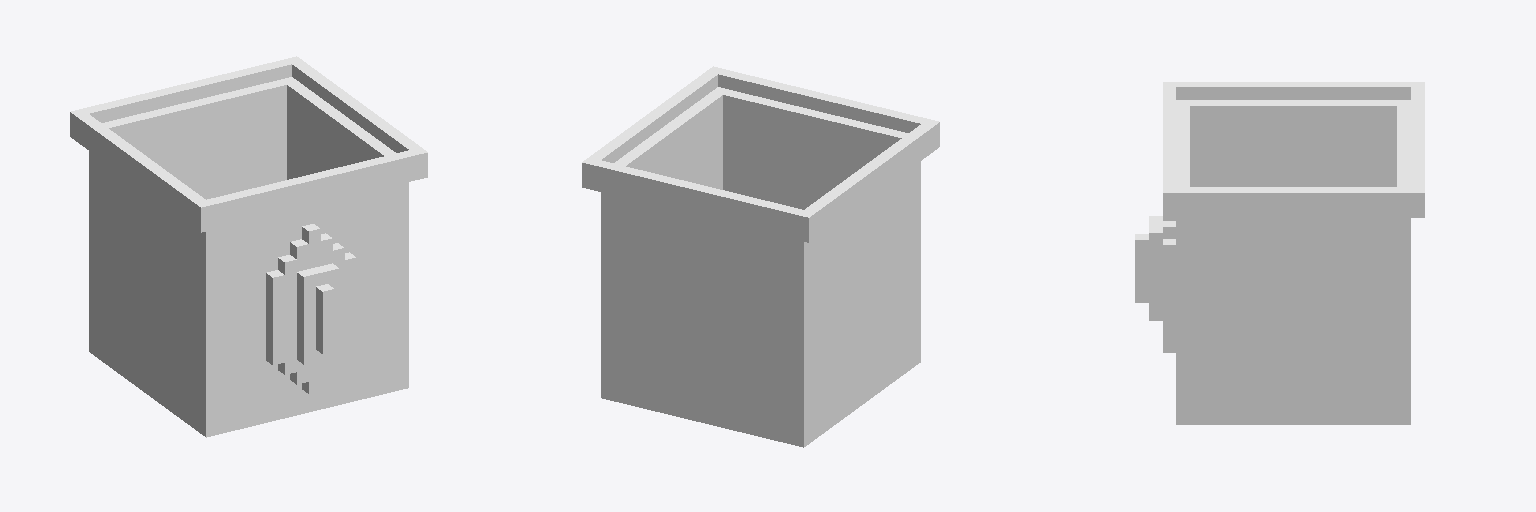
Rendered from seed-bag.obj.
3 renders of one model, left to right at view 1: azimuth 30°, elevation 25°; view 2: azimuth 150°, elevation 25°; view 3: azimuth 270°, elevation 25°, orthographic.
Parts seen in each view (by area): view 1: object 1; view 2: object 1; view 3: object 1.
Boxes of the visible parts, box(x1,y1,x2,y2) form: object 1: box(70, 56, 427, 437); object 1: box(582, 66, 939, 447); object 1: box(1135, 82, 1424, 424).
Size of the model in its own units: 1.9 by 1.9 by 2.1.